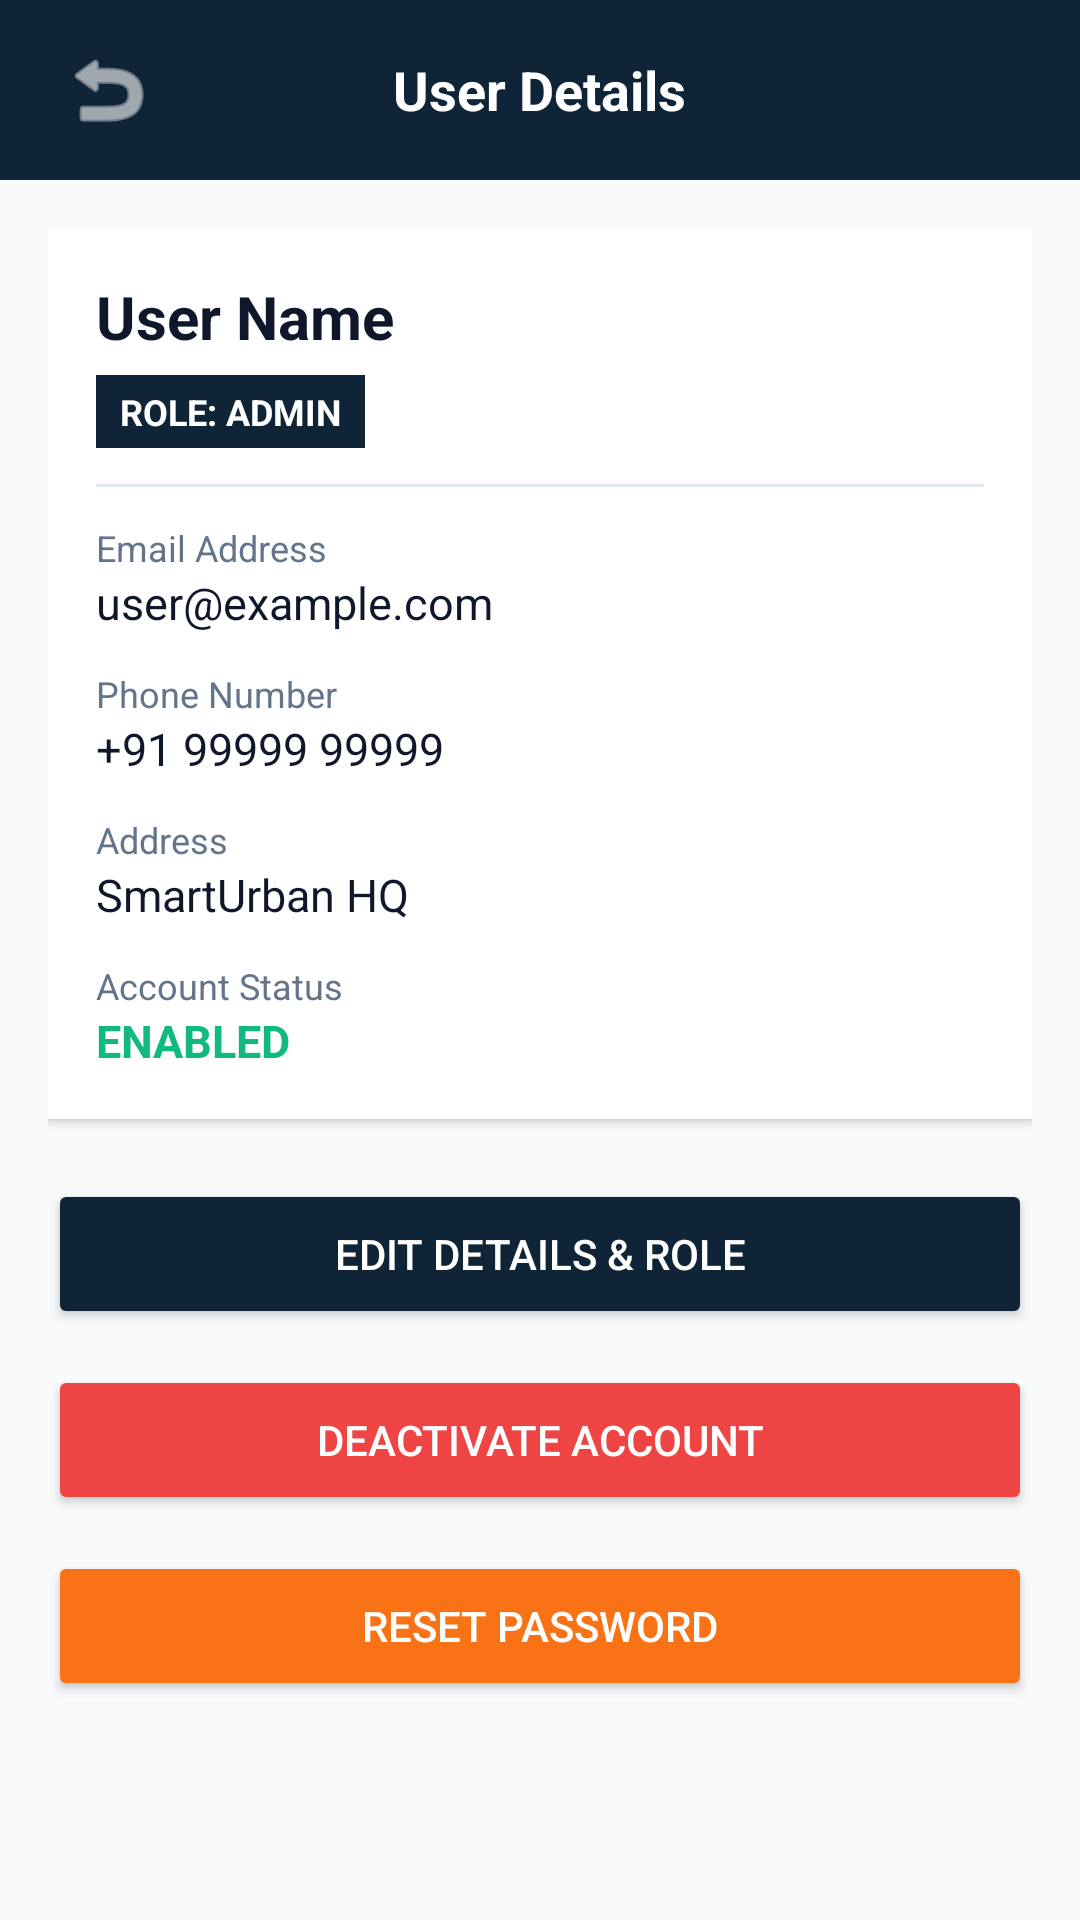

Point at icon controls on the screen. Image size 1080×1920, points as (x=x, y=y).
Back: (x=109, y=90)
